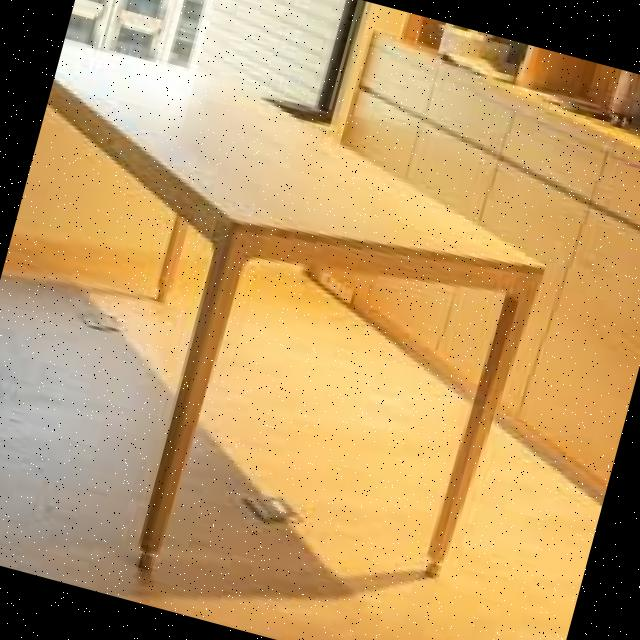Table: (0, 26, 604, 640)
